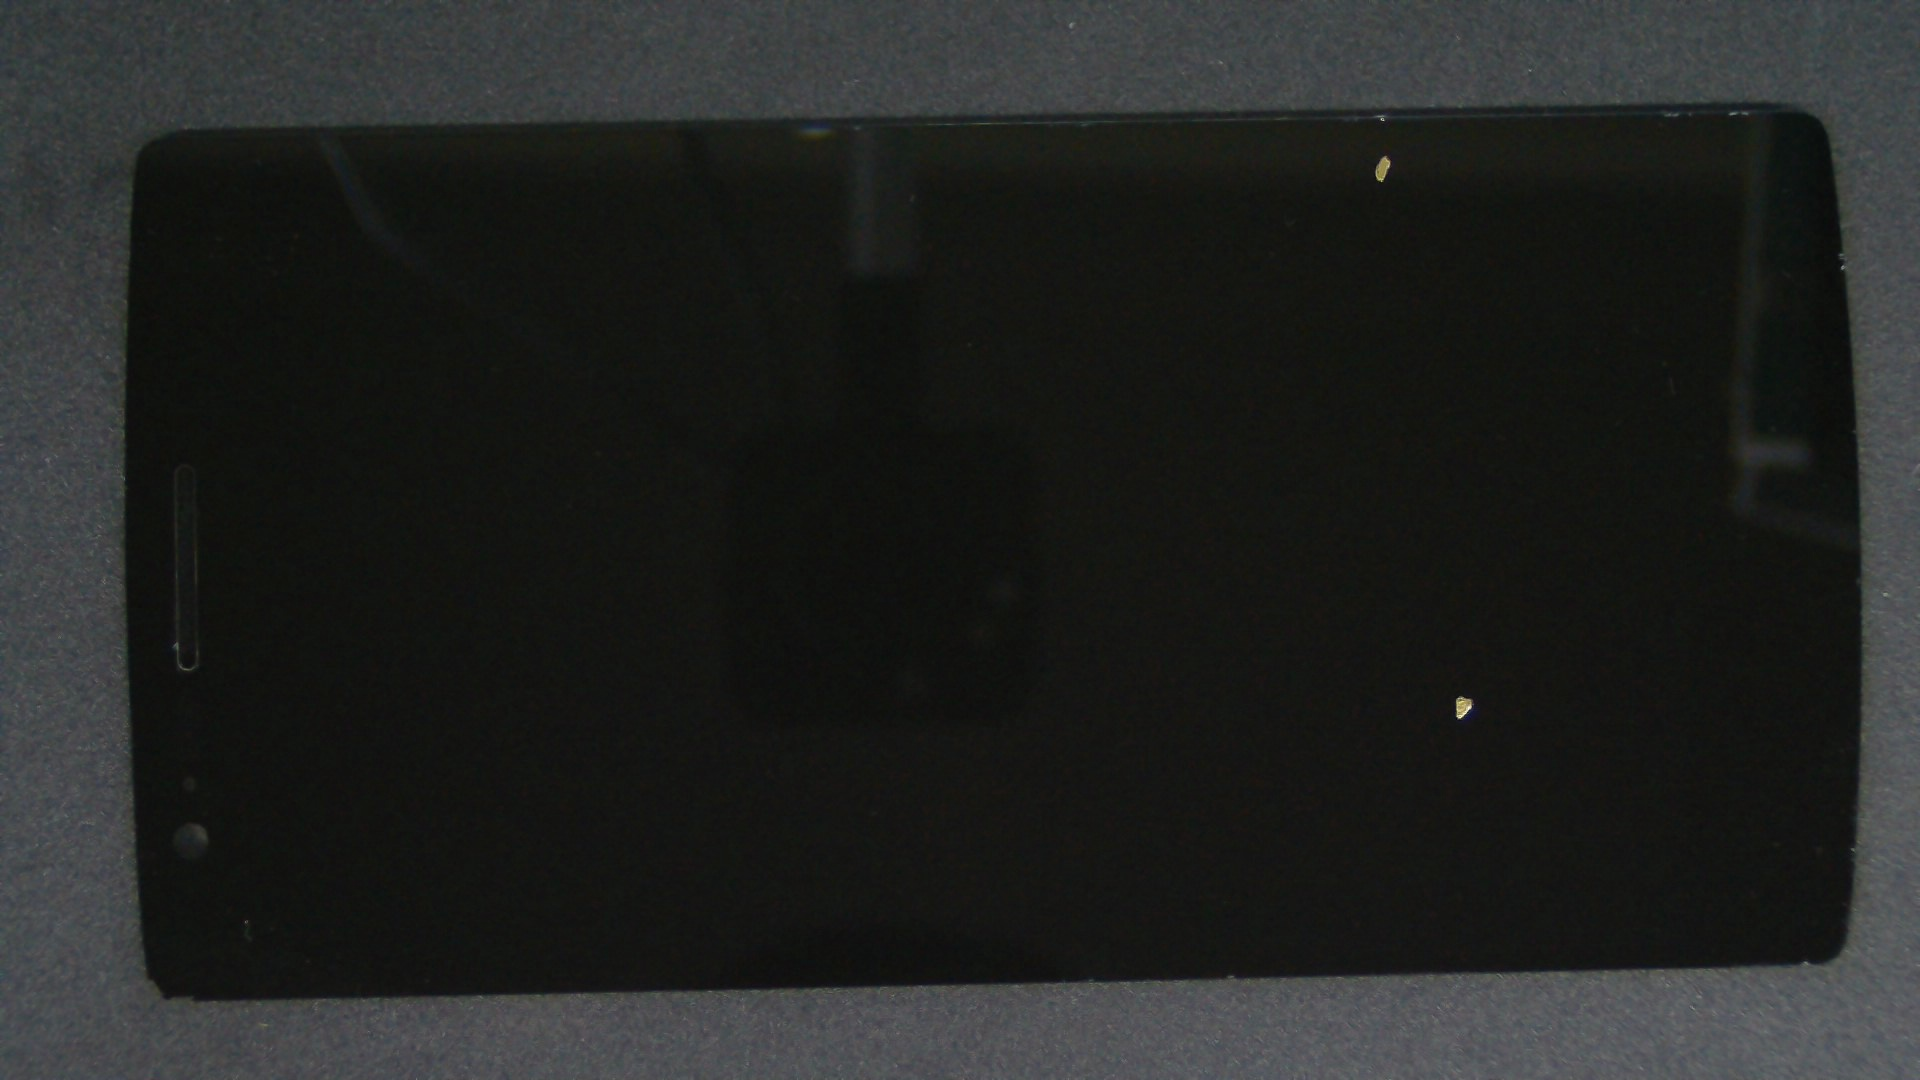oil: (731, 345, 1920, 1042), (694, 76, 1920, 233)
